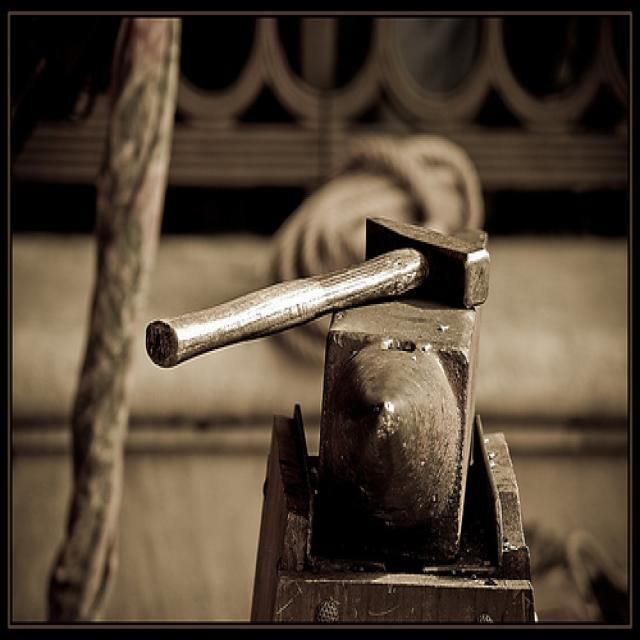hammer: (140, 206, 498, 374)
